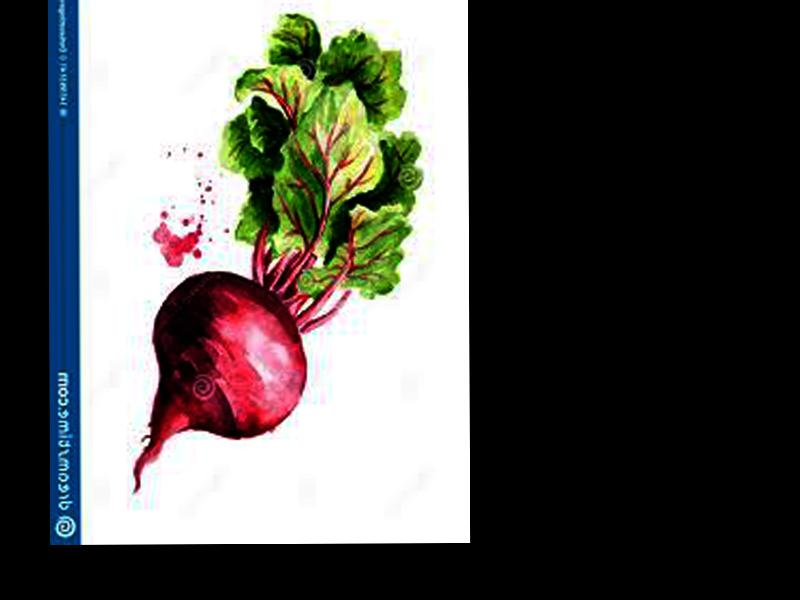Beet: (131, 11, 424, 489)
